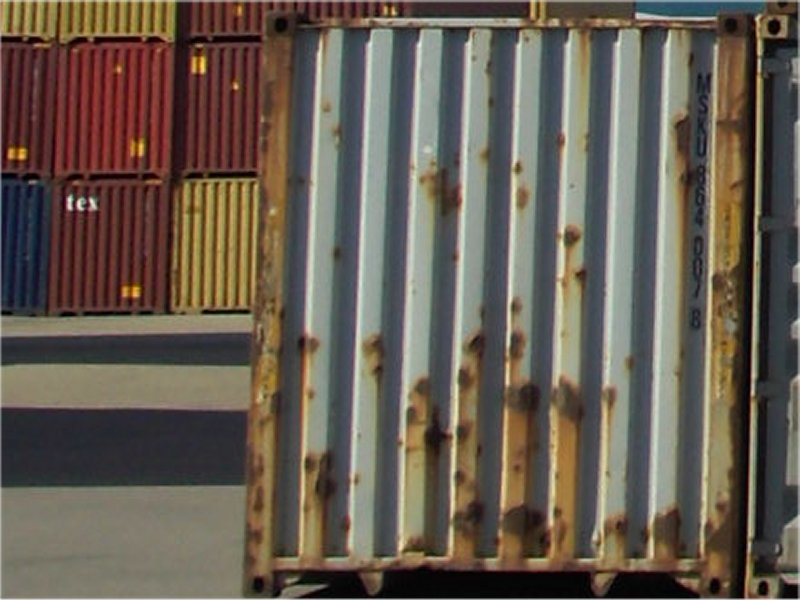container_no_door: (259, 10, 742, 597), (55, 41, 175, 179), (51, 182, 170, 321), (176, 35, 260, 176), (173, 176, 257, 317)
